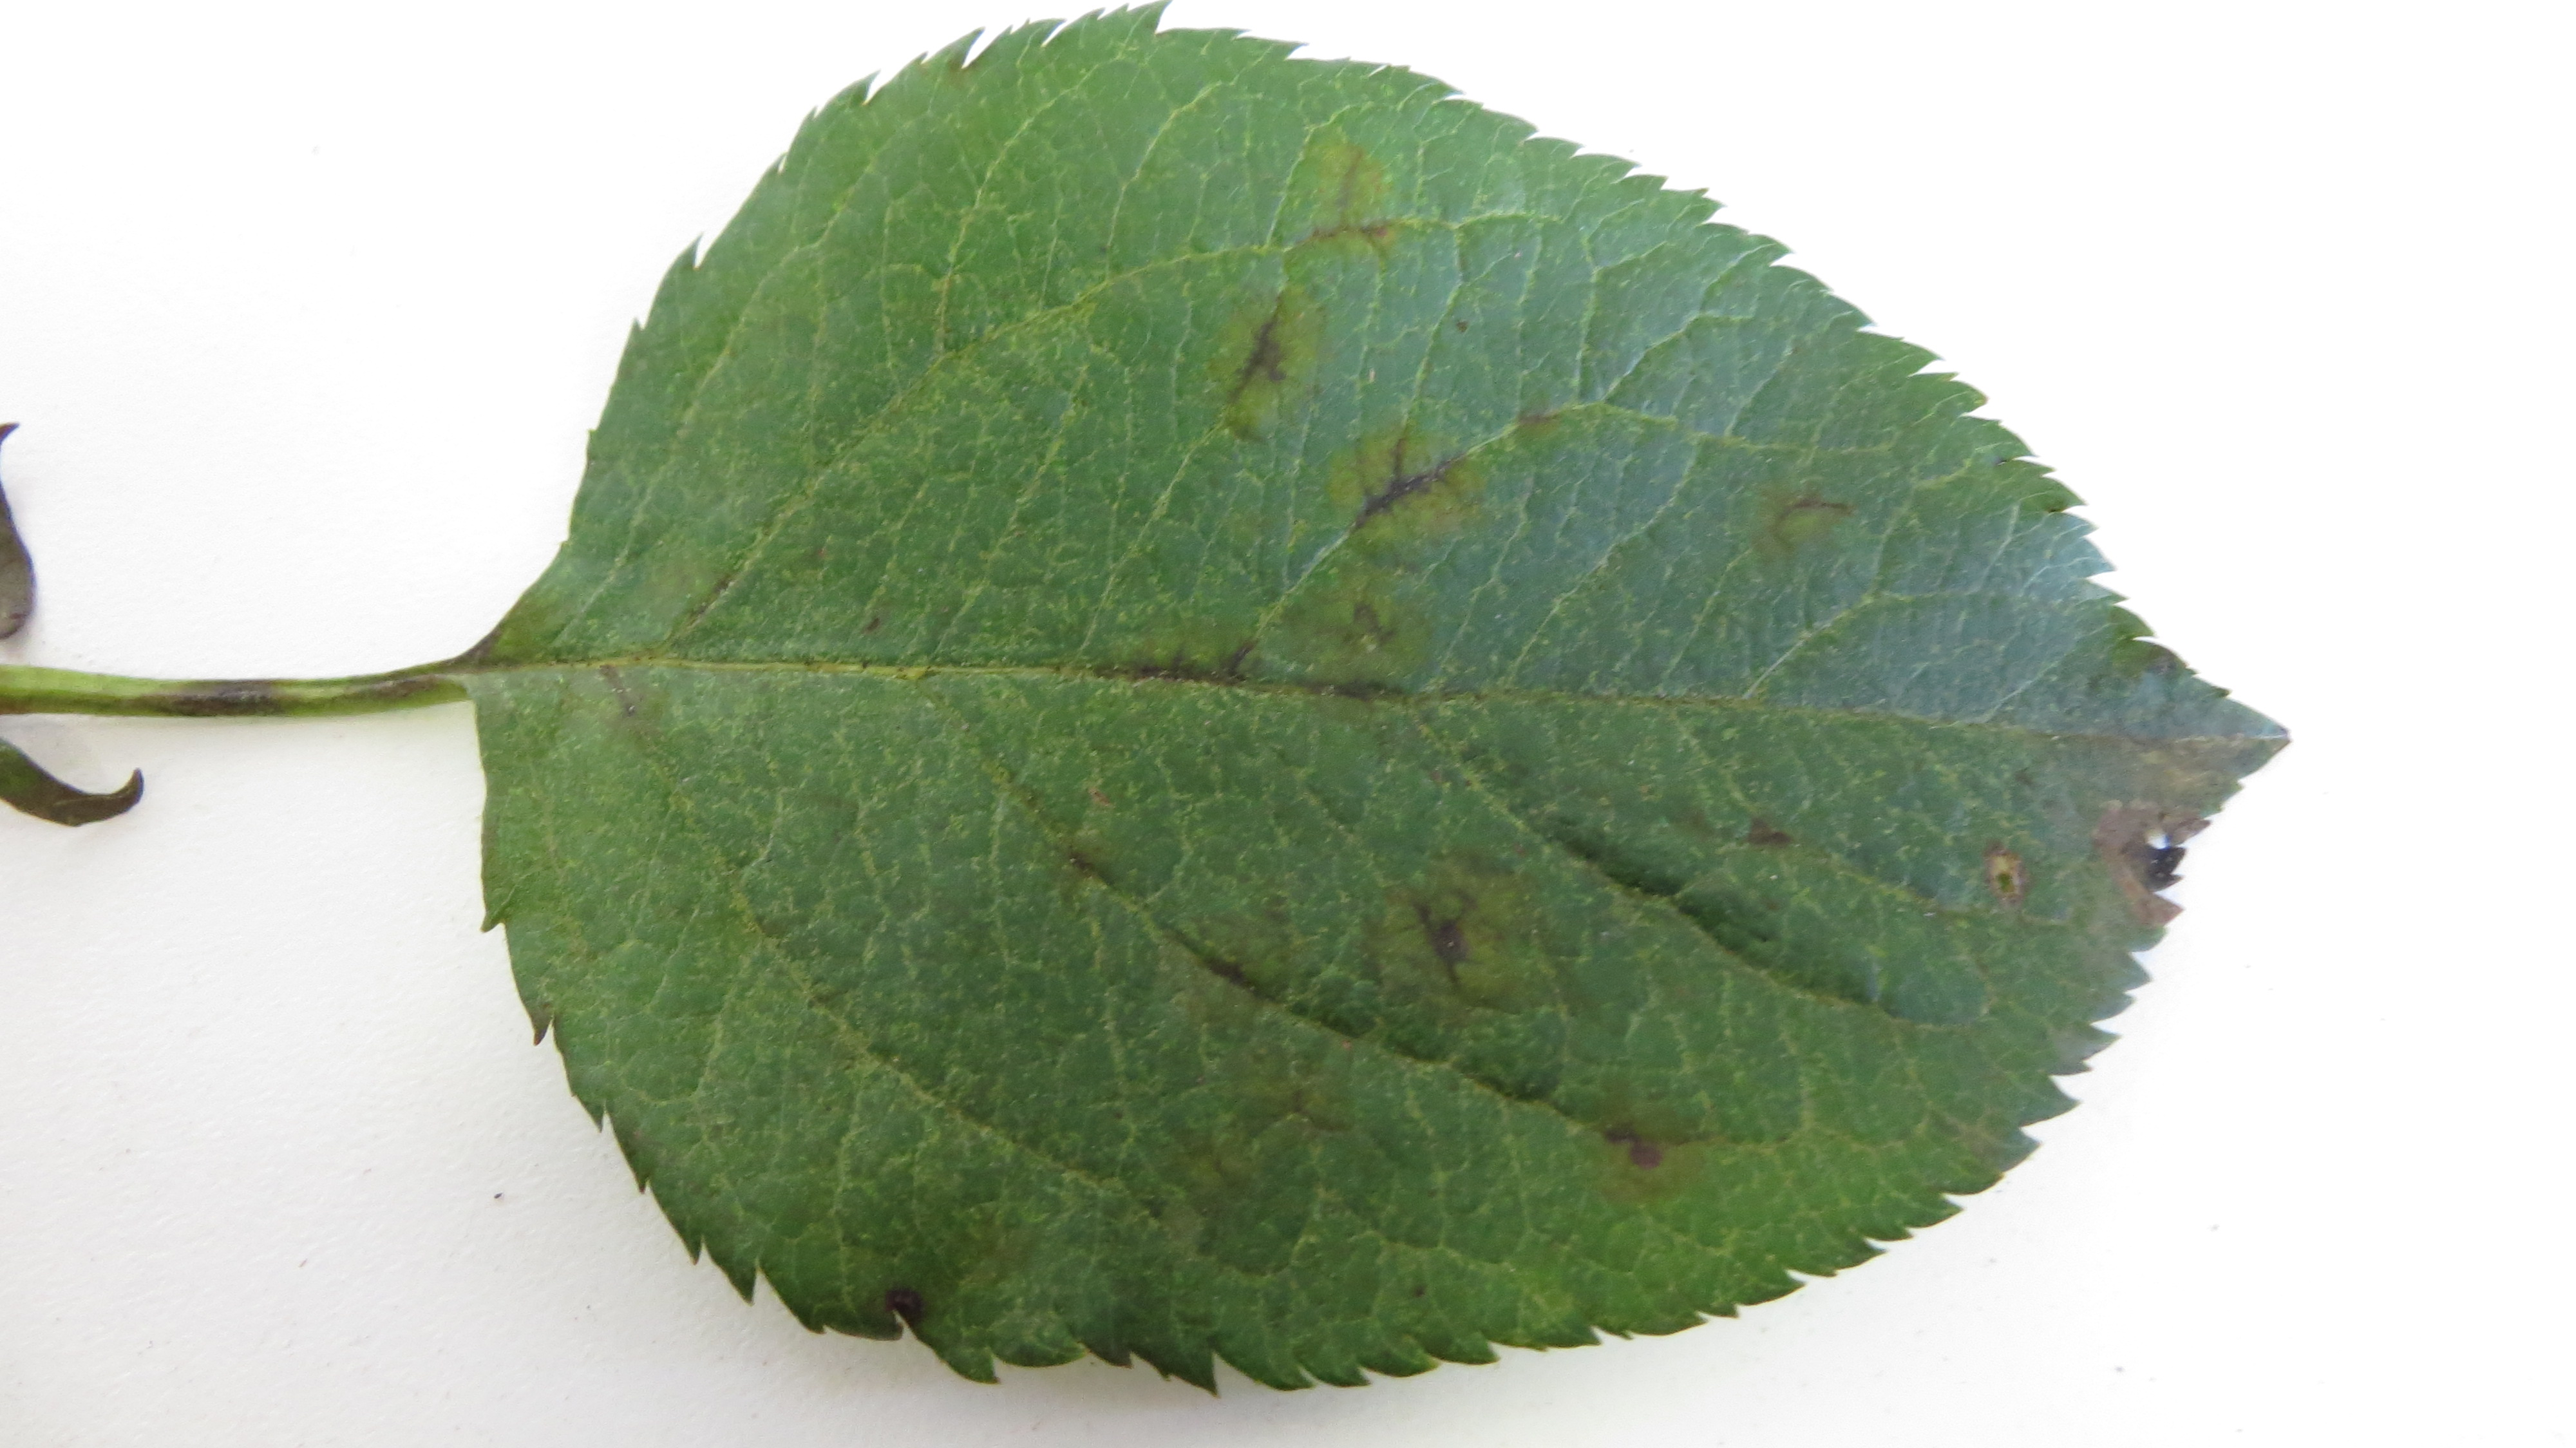sarna: (1366, 839, 1539, 1025), (1141, 883, 1295, 1051), (1316, 411, 1483, 551), (1201, 266, 1315, 420), (1104, 1133, 1244, 1253), (1109, 612, 1265, 717), (1568, 1094, 1713, 1198), (1210, 1050, 1346, 1158), (1293, 133, 1407, 262), (1309, 554, 1419, 667), (1743, 466, 1851, 577), (1490, 368, 1587, 471), (1033, 793, 1120, 894), (1721, 779, 1808, 873), (1971, 821, 2043, 920)
